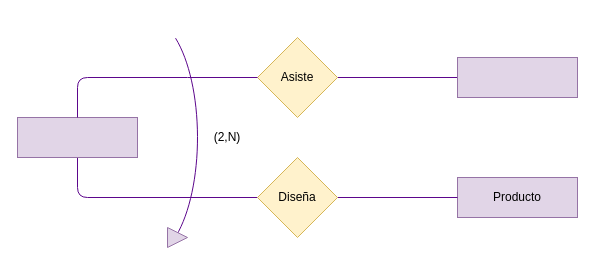
The diagram is 595 pixels wide and 275 high, and some of its shapes have lost their labels. The shapes that lost their labels are listed below. From the top down, each one's box as (x1, y1, x2, y2) in pixels, then its label:
(456, 56, 578, 98): Curso
(16, 116, 138, 158): Empleado
